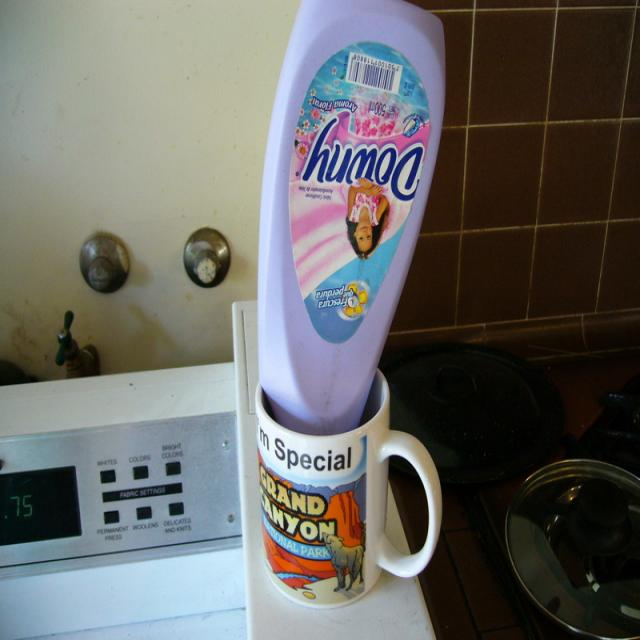container: (258, 0, 444, 434)
